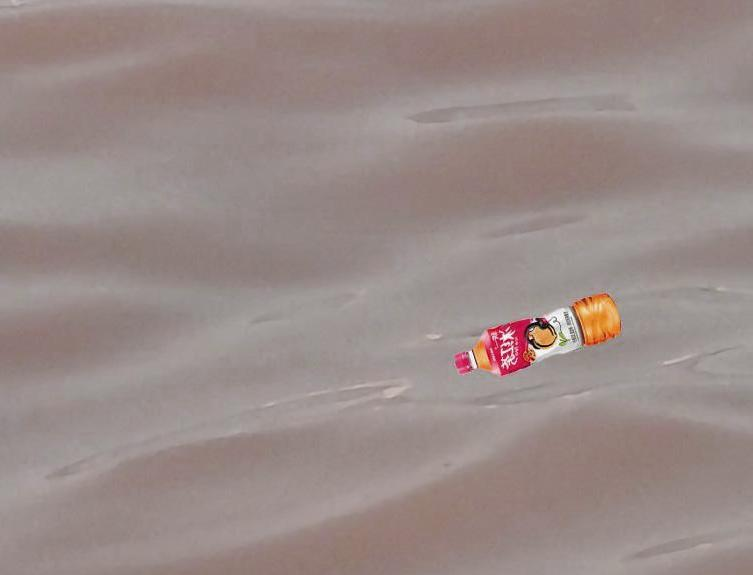Plastic: (450, 291, 621, 385)
